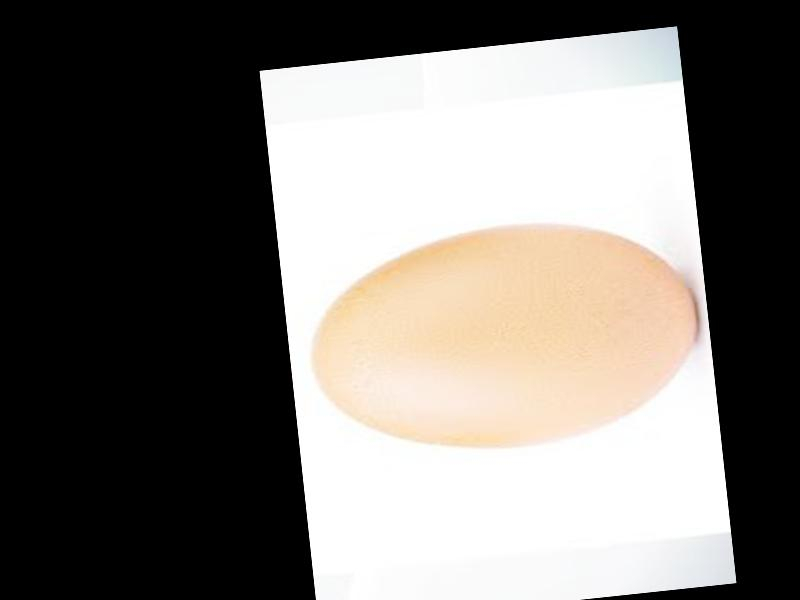Eggs: (301, 207, 707, 467)
